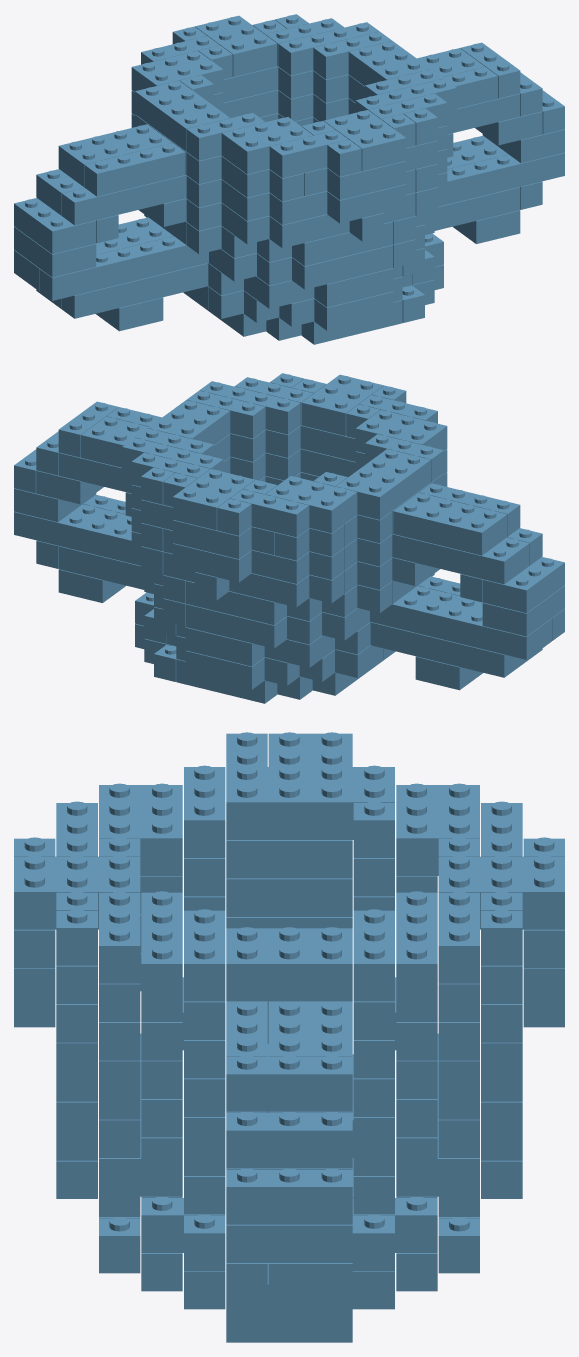
The model's file is collab_pot-L5V3_raw.glb.
The picture shows the model from 3 angles, top to bottom: view 1: azimuth 30°, elevation 25°; view 2: azimuth 150°, elevation 25°; view 3: azimuth 270°, elevation 25°; orthographic projection. The views are drawn at different scales.
Bounding box in the file's own units: 22.98 × 9.13 × 12.98.
